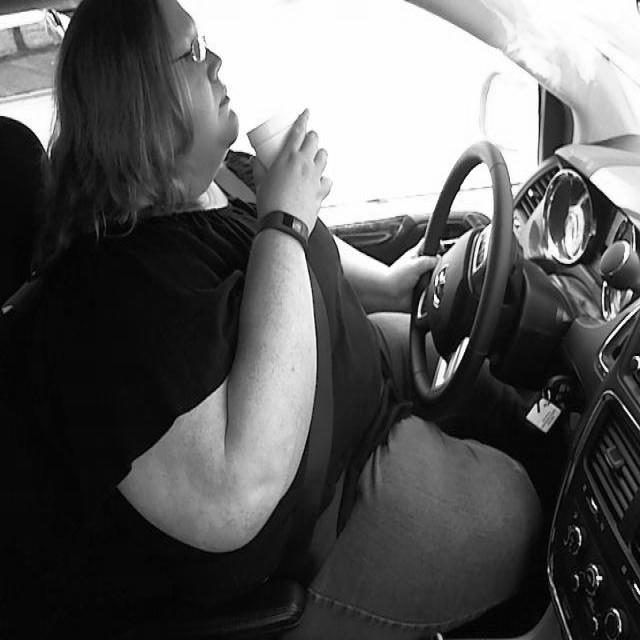Drinking: (244, 108, 330, 217)
